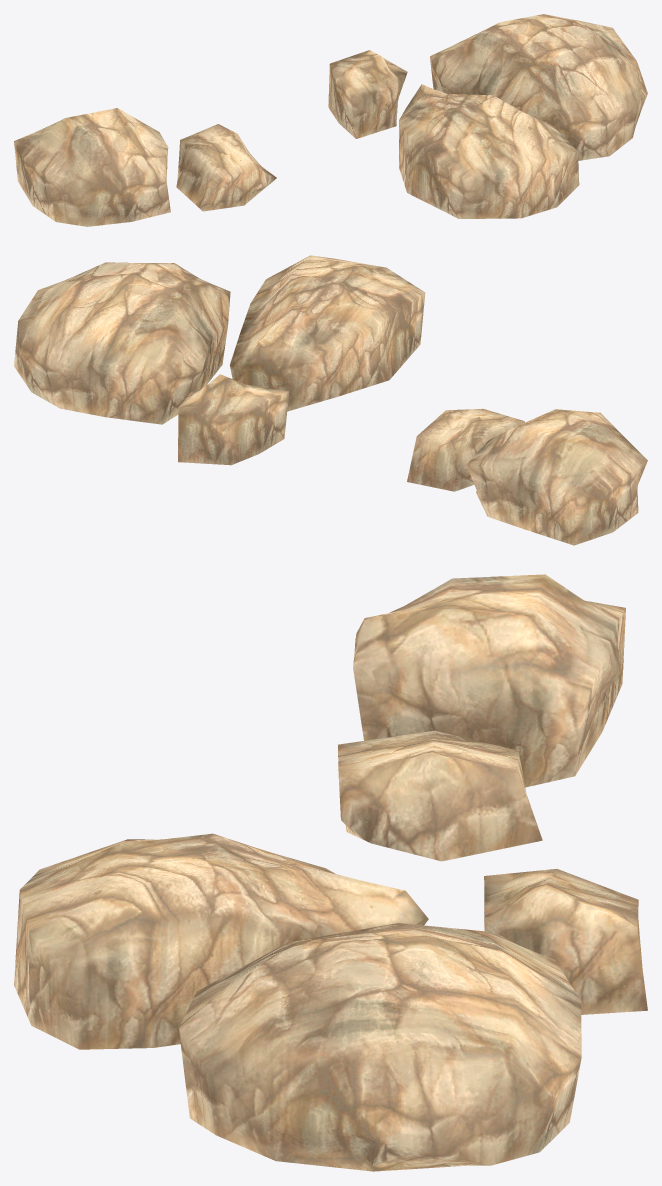
The model's file is SM-Rock-16.FBX.
The picture shows the model from 3 angles, top to bottom: view 1: azimuth 30°, elevation 25°; view 2: azimuth 150°, elevation 25°; view 3: azimuth 270°, elevation 25°; orthographic projection. The views are drawn at different scales.
Visible parts, largest first — view 1: SM-Rock-16; view 2: SM-Rock-16; view 3: SM-Rock-16.
Boxes of the visible parts, <box> form: SM-Rock-16: <box>14,14,647,226</box>; SM-Rock-16: <box>14,255,647,545</box>; SM-Rock-16: <box>14,574,647,1171</box>.
Bounding box in the file's own units: 76.64 × 39.94 × 12.06.
1 material, 1 textured.
